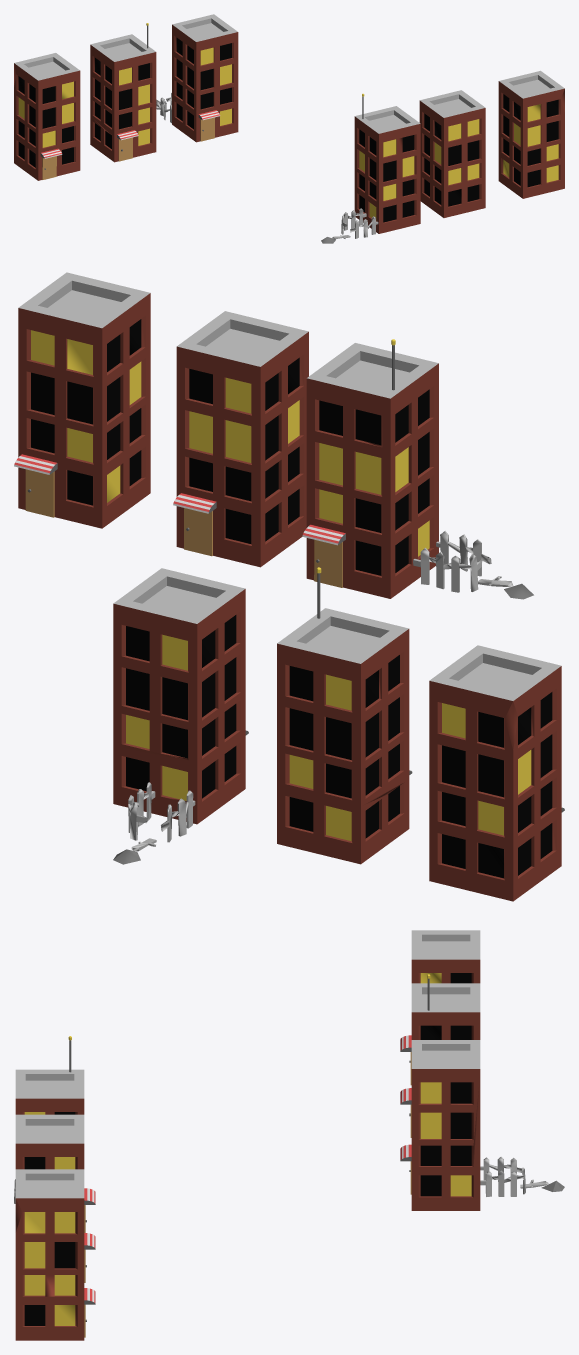
File: home.glb
3 views of the same model, one above another, from view 1: azimuth 30°, elevation 25°; view 2: azimuth 150°, elevation 25°; view 3: azimuth 270°, elevation 25° (orthographic). The views are drawn at different scales.
Parts seen in each view (by area): view 1: Жилые Дома; view 2: Жилые Дома; view 3: Жилые Дома.
Boxes of the visible parts, box(x1,y1,x2,y2) form: Жилые Дома: box(14, 14, 564, 243); Жилые Дома: box(14, 272, 564, 901); Жилые Дома: box(14, 930, 564, 1340).
Bounding box in the file's own units: 37.42 × 11.57 × 32.52.
